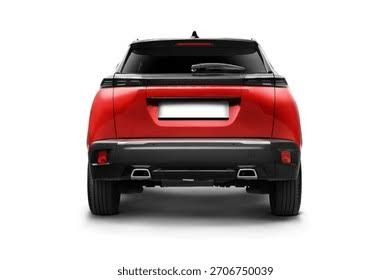car: (81, 33, 301, 225), (82, 33, 301, 224)
